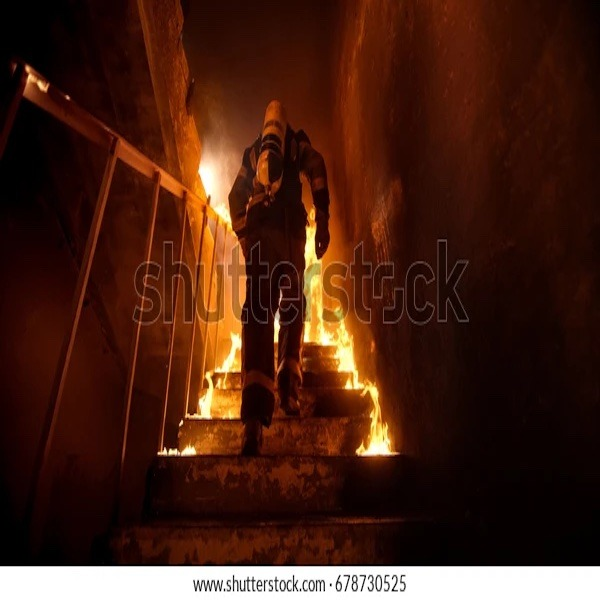fire: (336, 334, 372, 391), (307, 227, 318, 345), (368, 409, 394, 456), (199, 372, 212, 423), (226, 330, 239, 372)
